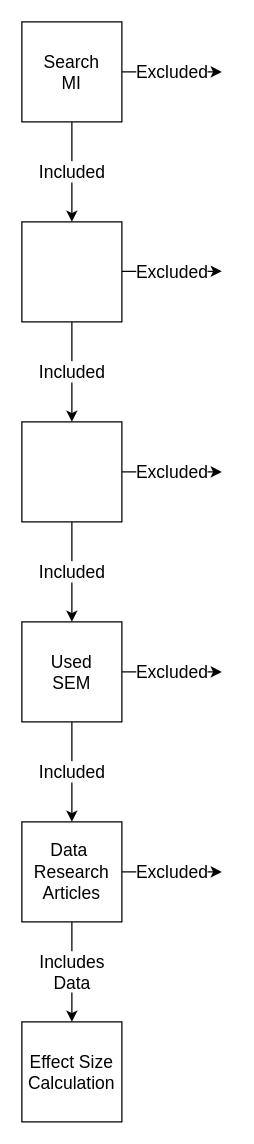
This 254x1144 diagram has some shape labels left out. The box of each missing label's shape, as (x1, y1, x2, y2) in pixels:
MI Research Articles: (21, 421, 122, 522)
Research Articles: (21, 221, 122, 322)
